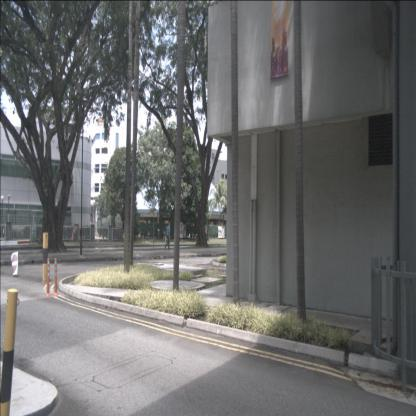cone: (44, 258, 52, 297), (52, 258, 58, 296)
